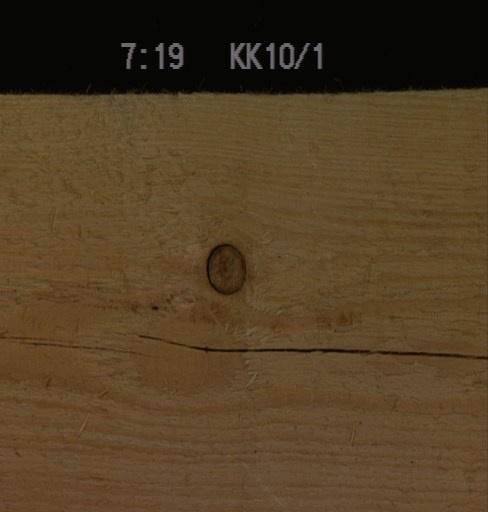dry_knot: (204, 241, 247, 295)
split: (138, 334, 486, 360), (0, 331, 160, 356)
